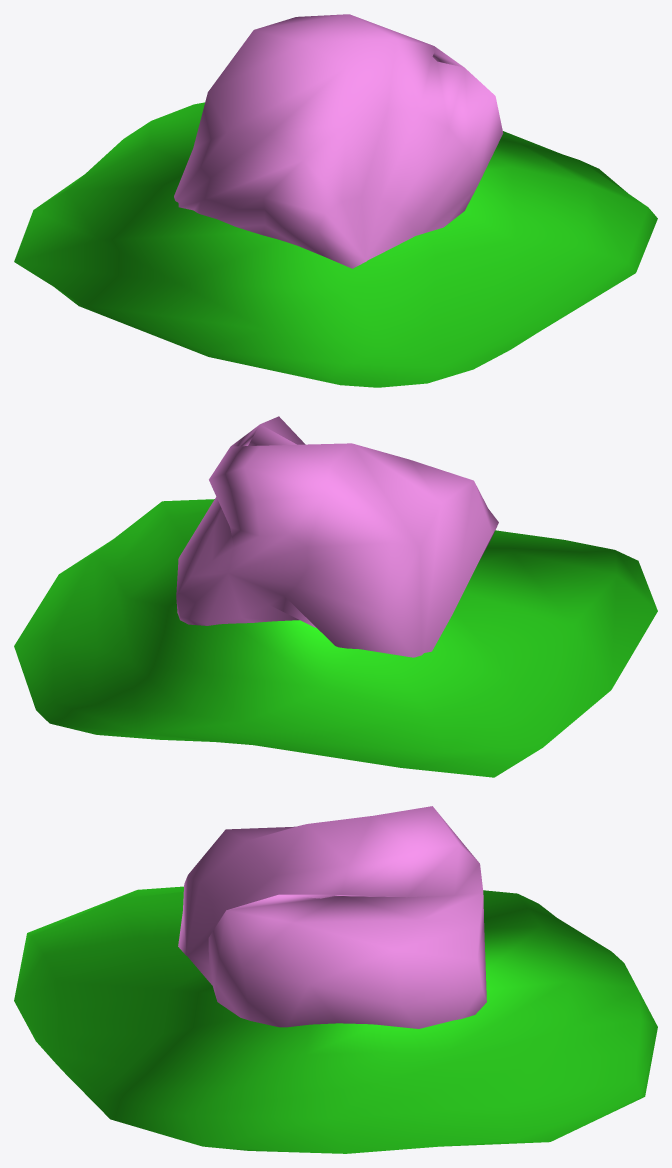
File: ufodamaged.obj
3 views of the same model, one above another, from view 1: azimuth 30°, elevation 25°; view 2: azimuth 150°, elevation 25°; view 3: azimuth 270°, elevation 25° (orthographic). The views are drawn at different scales.
Parts seen in each view (by area): view 1: Sphere01, Sphere02; view 2: Sphere01, Sphere02; view 3: Sphere01, Sphere02.
Part boxes in pixels (bbox=[...]): Sphere01: bbox=[14, 102, 657, 387]; Sphere02: bbox=[174, 14, 503, 268]; Sphere01: bbox=[14, 499, 657, 777]; Sphere02: bbox=[176, 416, 498, 657]; Sphere01: bbox=[14, 886, 657, 1153]; Sphere02: bbox=[178, 806, 486, 1028].
Bounding box in the file's own units: 92.45 × 38.36 × 92.33.
